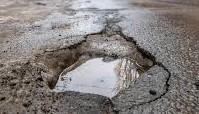pothole: (26, 25, 173, 114)
